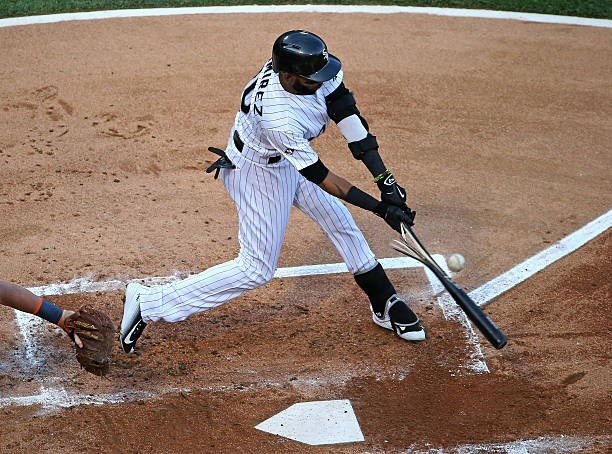bita: (402, 220, 510, 347)
